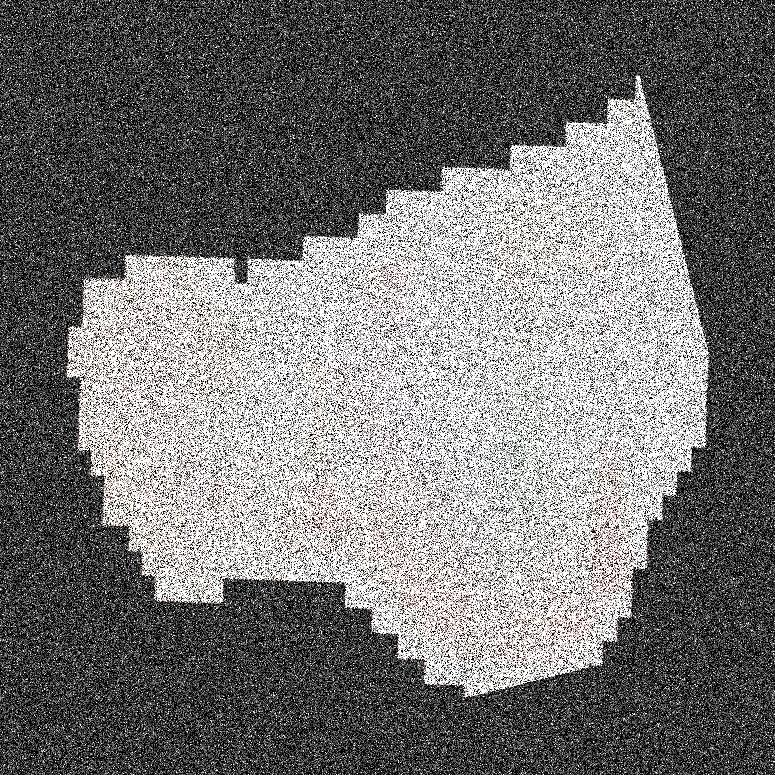Oculos: (399, 0, 774, 774)
